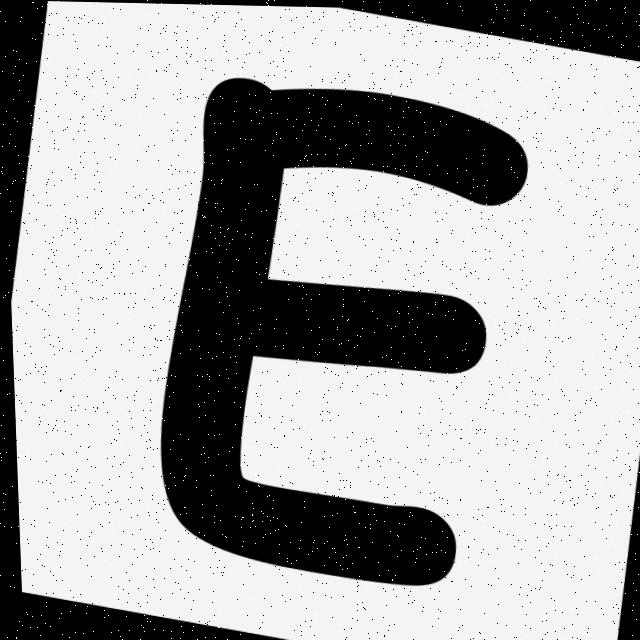E: (158, 78, 526, 584)
